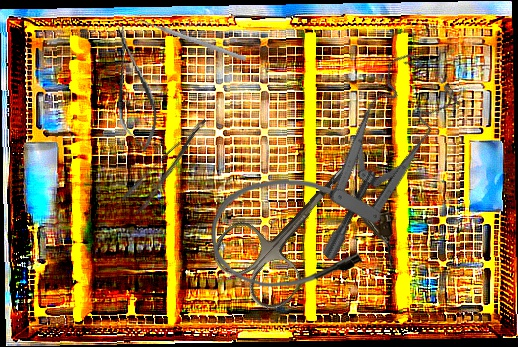Cannula: (209, 175, 396, 293)
Dressing Forceps: (119, 116, 222, 217)
Iris Scissors: (203, 121, 397, 318)
Micro Scissor: (103, 23, 164, 155)
Pusher: (133, 15, 247, 62)
Speculum: (256, 43, 489, 262)
